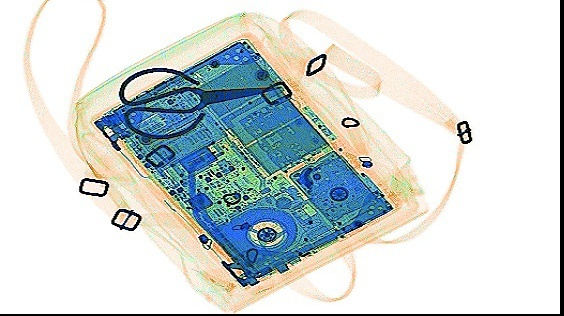scissors: (116, 66, 284, 141)
